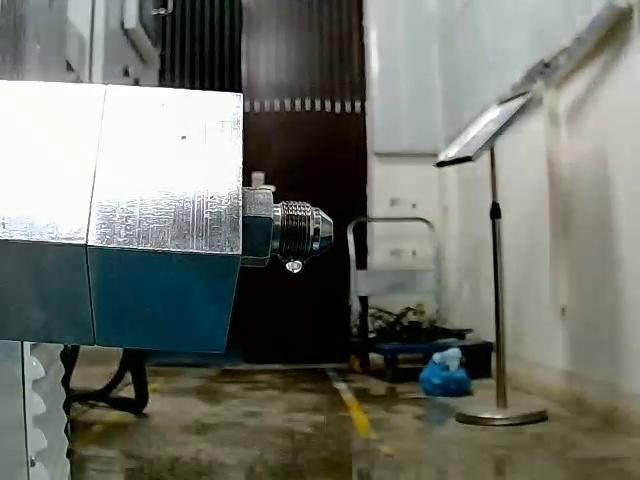water drop: (280, 258, 305, 273)
